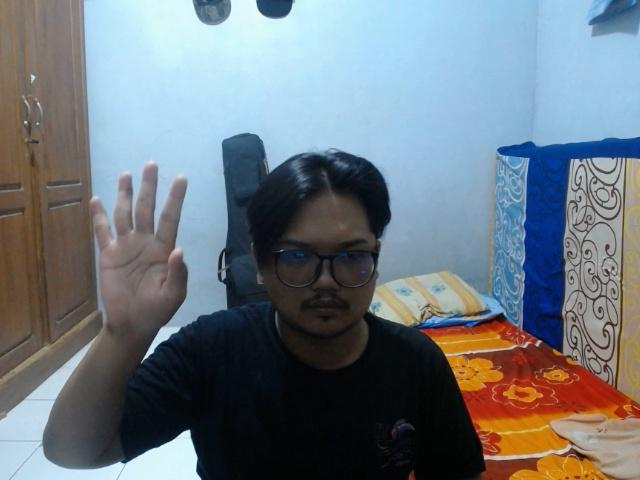Release: (83, 156, 200, 349)
